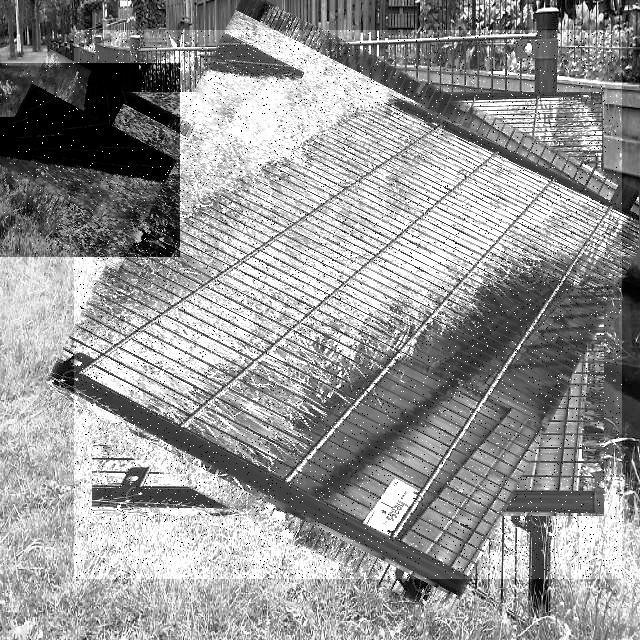fences: (74, 30, 622, 579), (0, 63, 180, 257)
